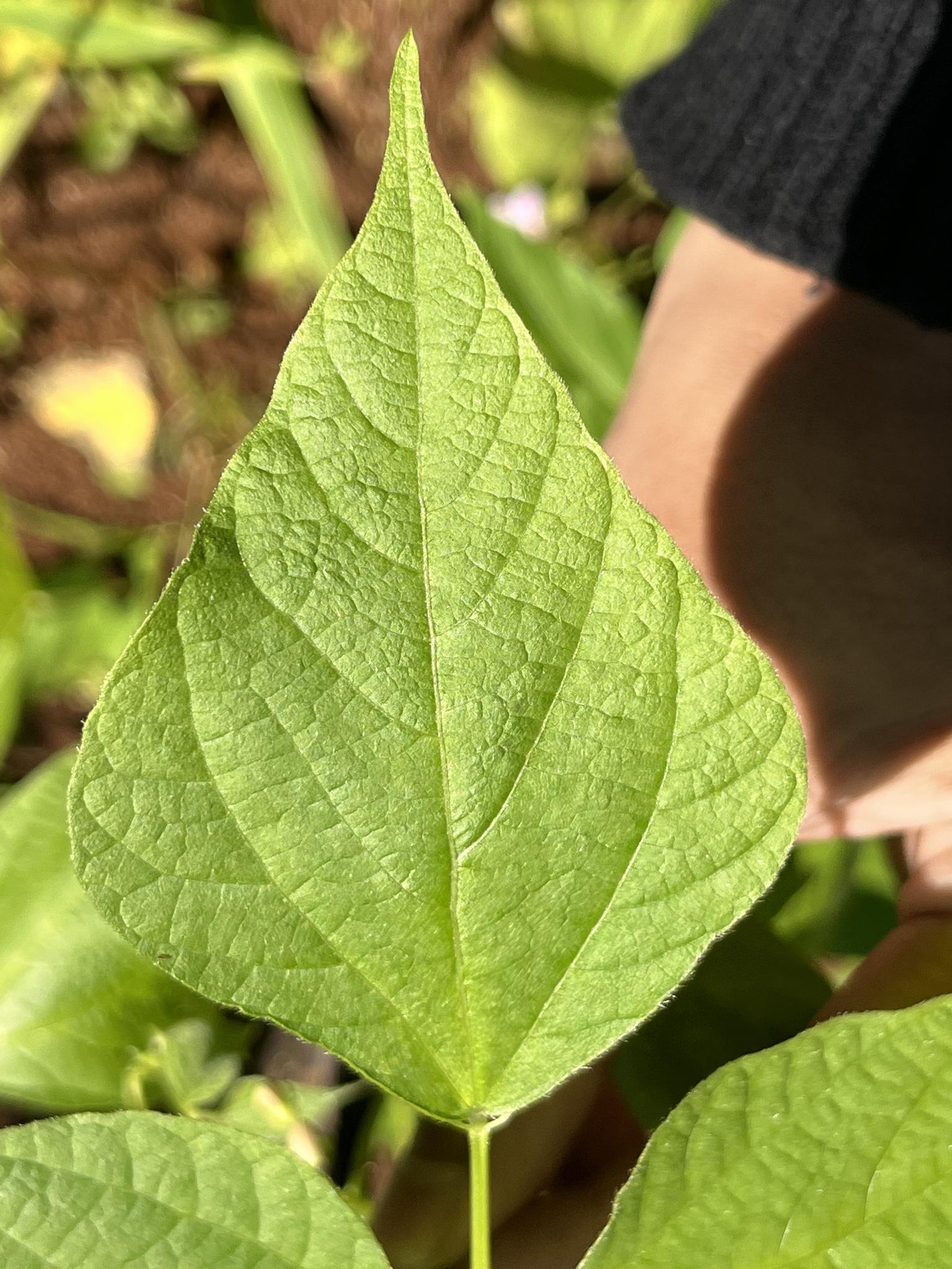sehat: (59, 14, 804, 1144)
